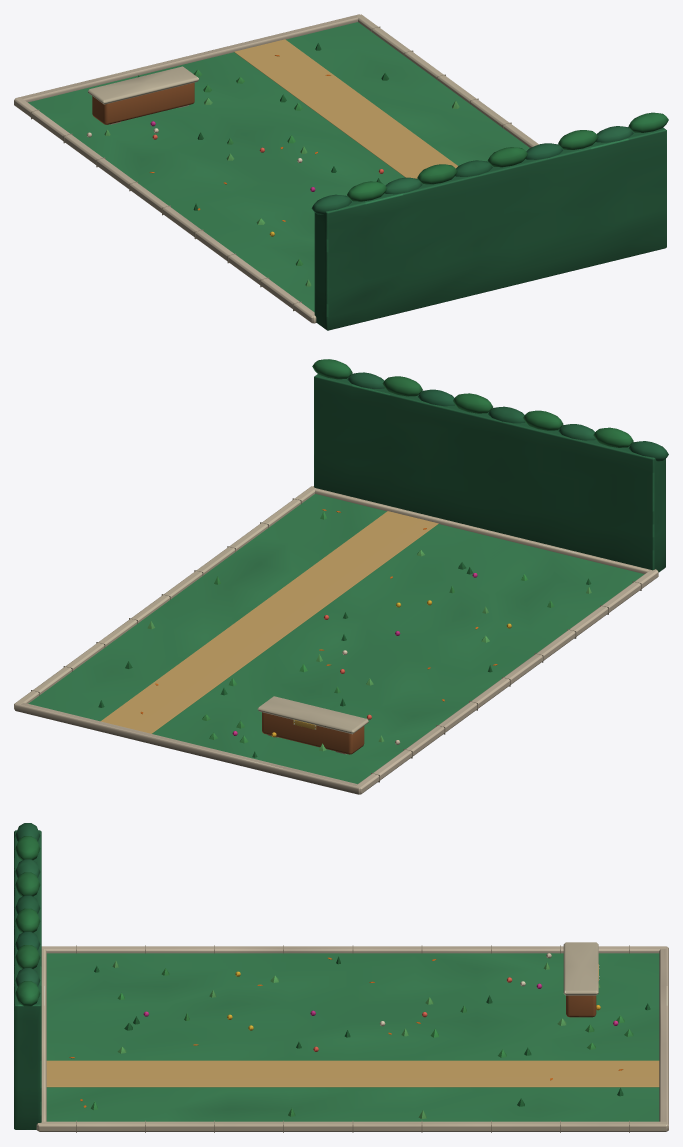
The model's file is SM_City_PocketPark.fbx.
3 views of the same model, one above another, from view 1: azimuth 30°, elevation 25°; view 2: azimuth 150°, elevation 25°; view 3: azimuth 270°, elevation 25° (orthographic). The views are drawn at different scales.
Parts seen in each view (by area): view 1: SM_City_PocketPark; view 2: SM_City_PocketPark; view 3: SM_City_PocketPark.
Part boxes in pixels (x1=…): SM_City_PocketPark: x1=14, y1=14, x2=668, y2=330; SM_City_PocketPark: x1=14, y1=359, x2=668, y2=794; SM_City_PocketPark: x1=14, y1=823, x2=668, y2=1132.
Bounding box in the file's own units: 623 × 222 × 947.
